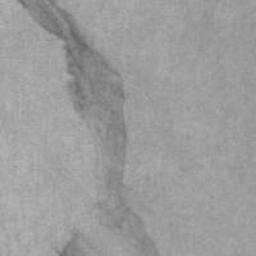Water spot: (18, 0, 163, 256)
